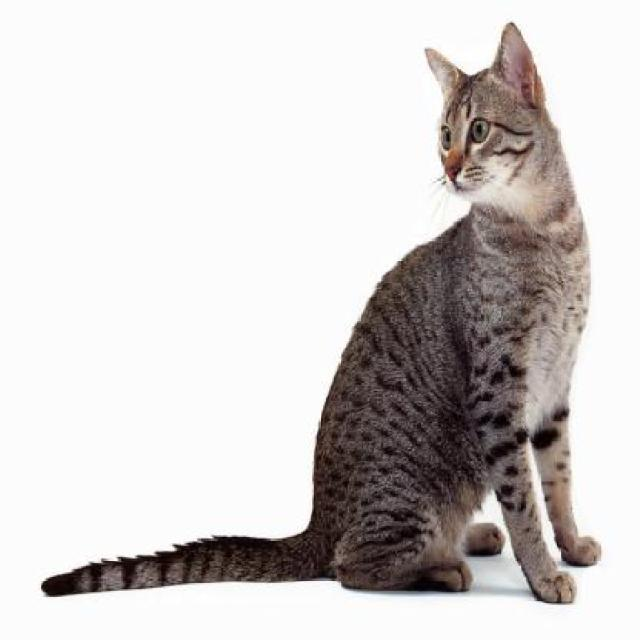cat: (42, 34, 603, 608)
